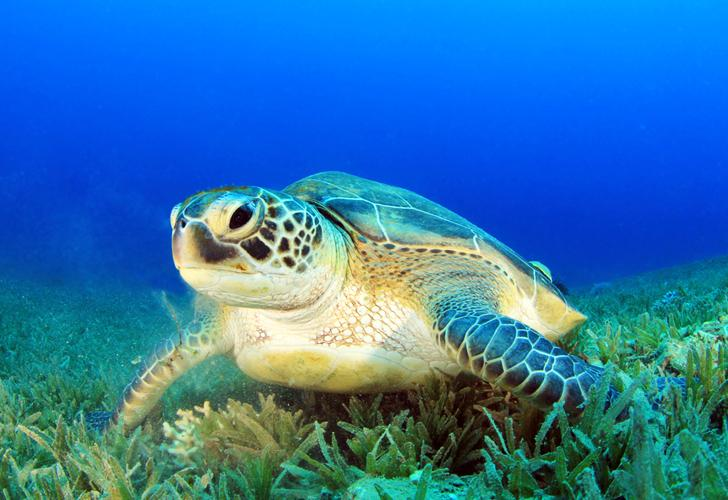turtle: (160, 174, 346, 319)
